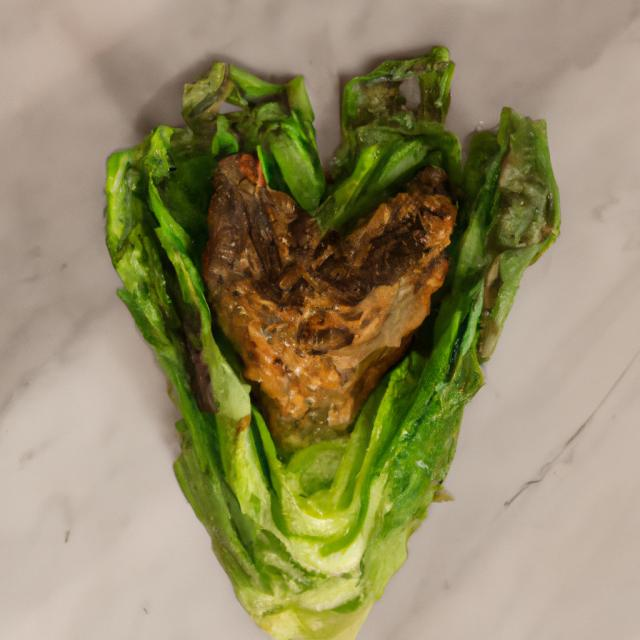-K: (97, 36, 568, 640)
